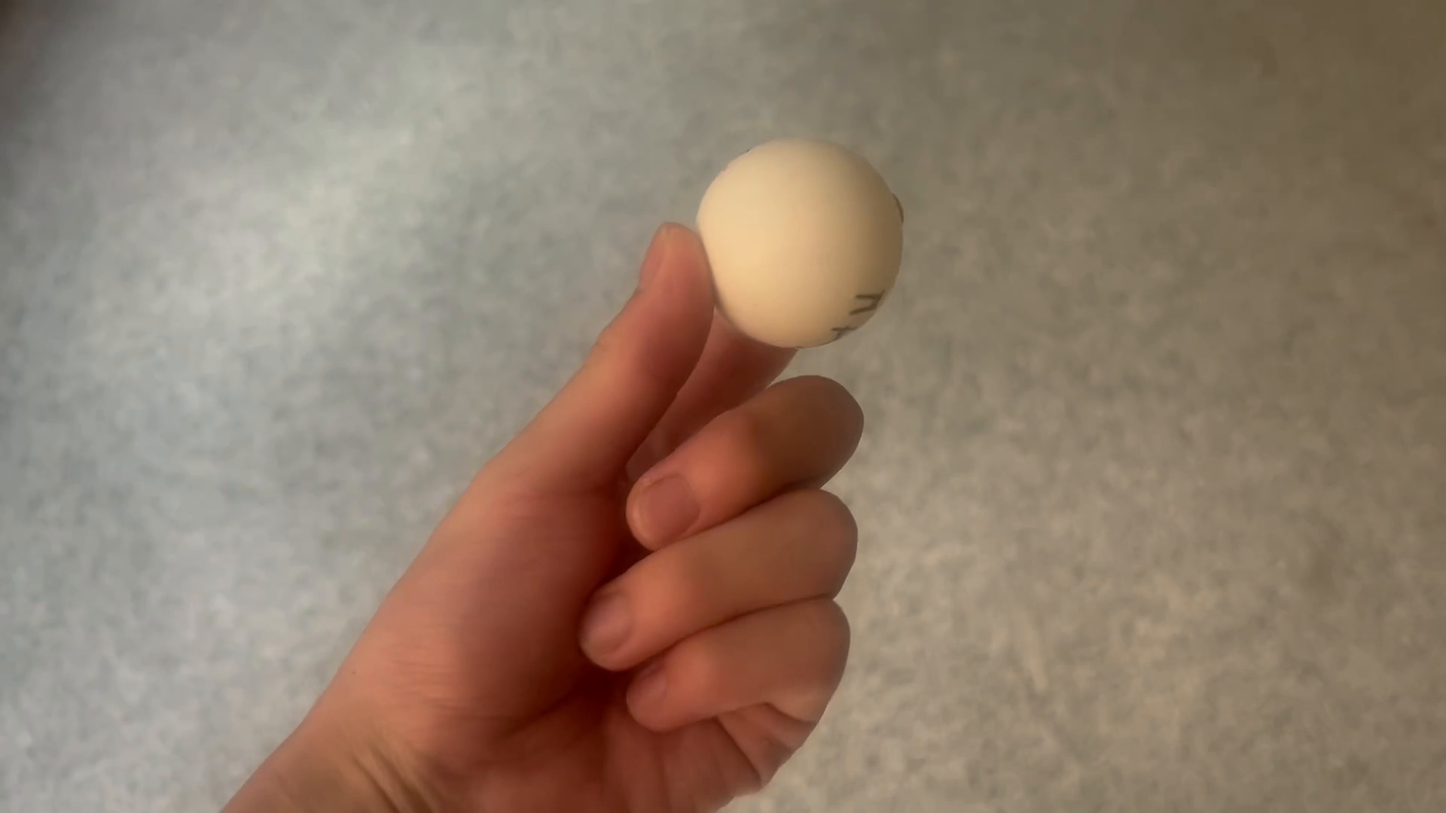Ball: (699, 150, 889, 337)
